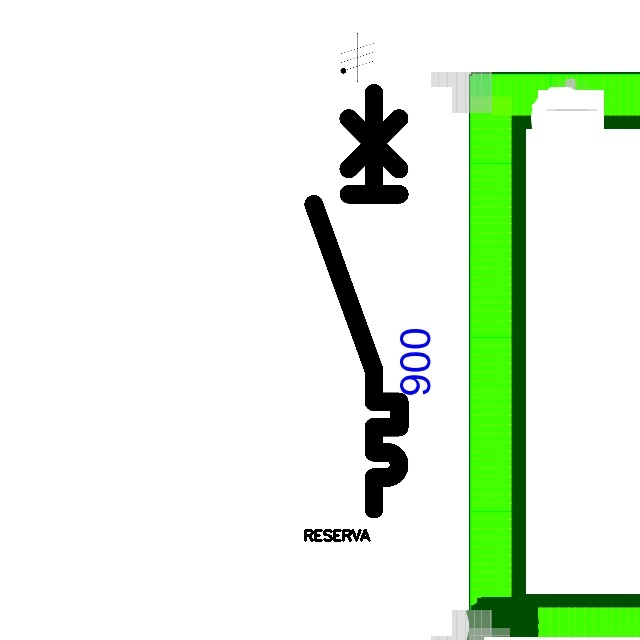interruptor_termomagnetico: (303, 82, 410, 519)
